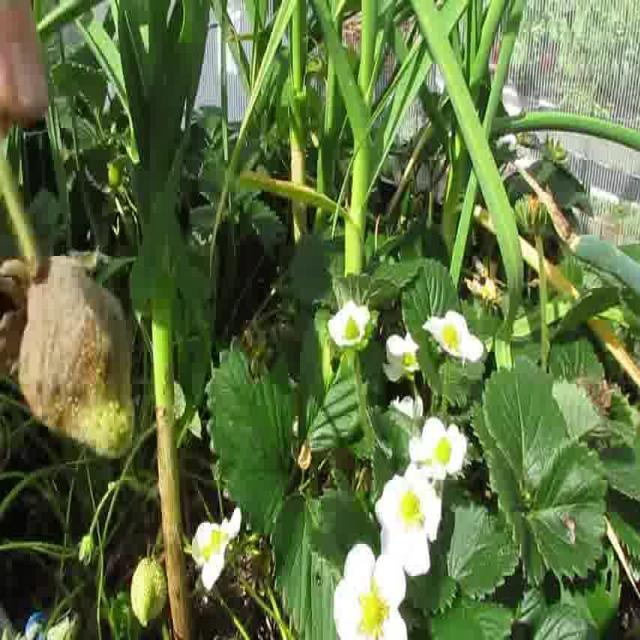Moho gris: (15, 248, 136, 457)
